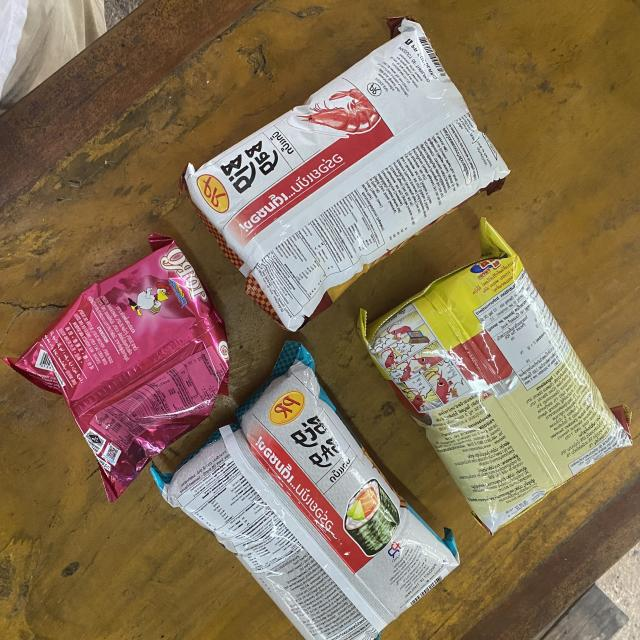plastik: (183, 20, 509, 331), (152, 341, 460, 640), (359, 219, 632, 533), (5, 235, 229, 500)
